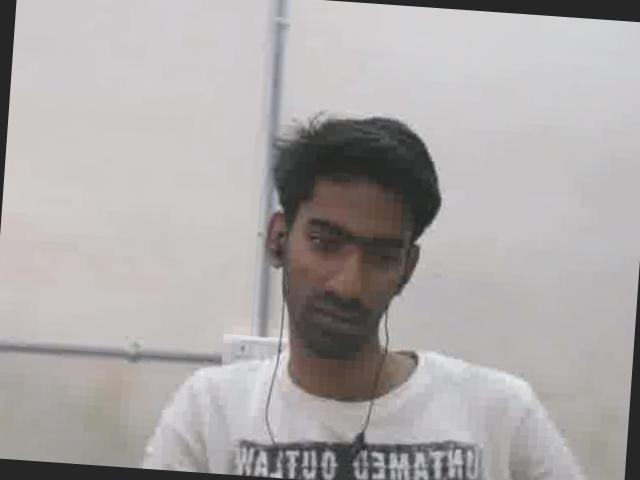bosan: (278, 181, 422, 354)
